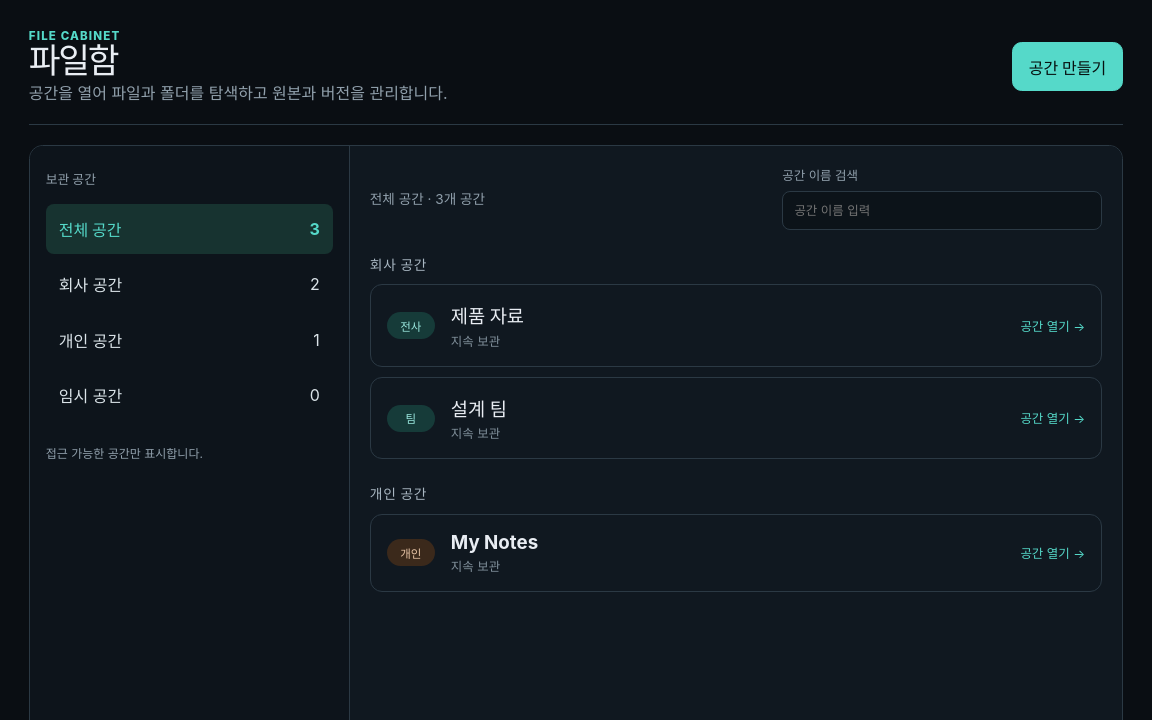
Test: filters authorized spaces by category and searches only workspace names
The width and height of the screenshot is (1152, 720).
Click the button "회사 공간 2": (90, 285) [46, 259, 333, 309]
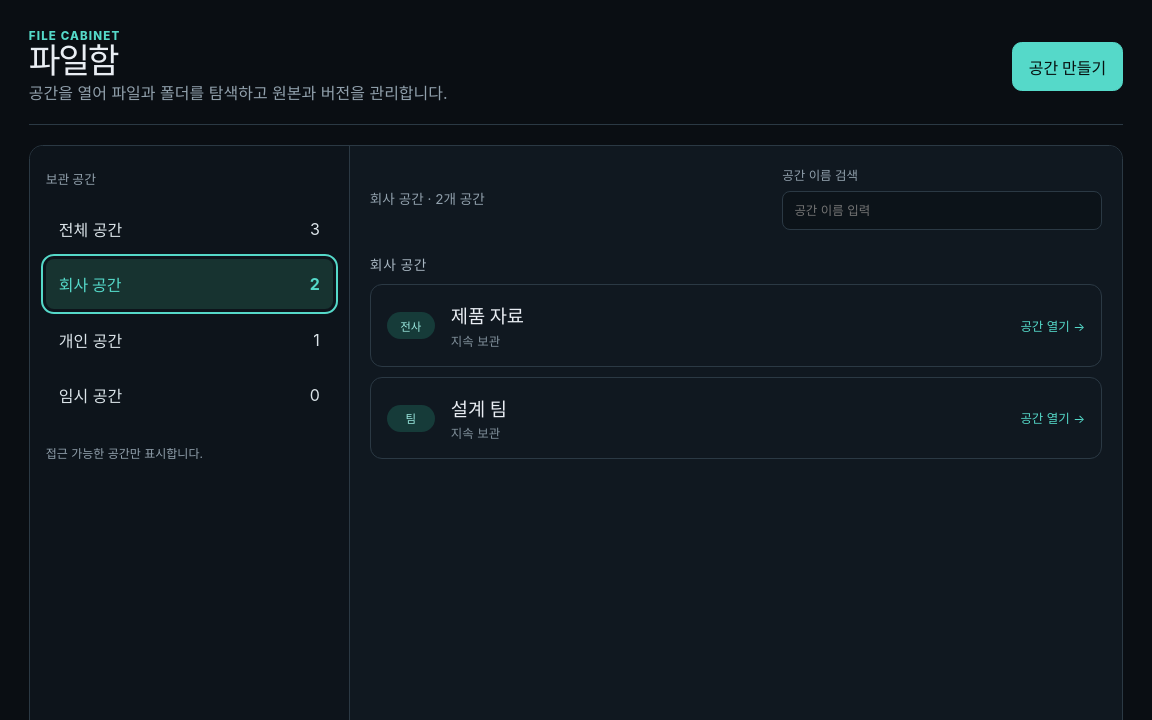
expect the link "팀 설계 팀 지속 보관 공간 열기 →" is shown: met, box [370, 377, 1102, 459]
expect the link "My Notes" is gone: met
Click the button "전체 공간 3": (90, 230) [46, 204, 333, 254]
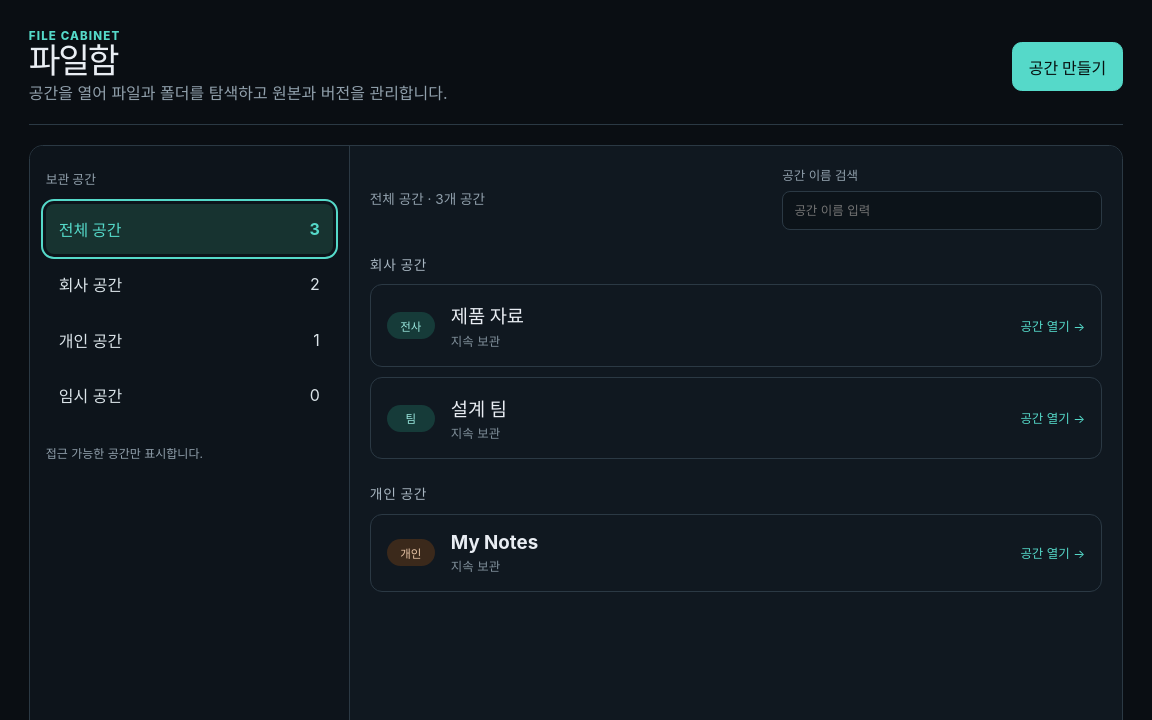
In the search field labelled "공간 이름 검색": (942, 210) [782, 191, 1102, 230], type "  my notes  "
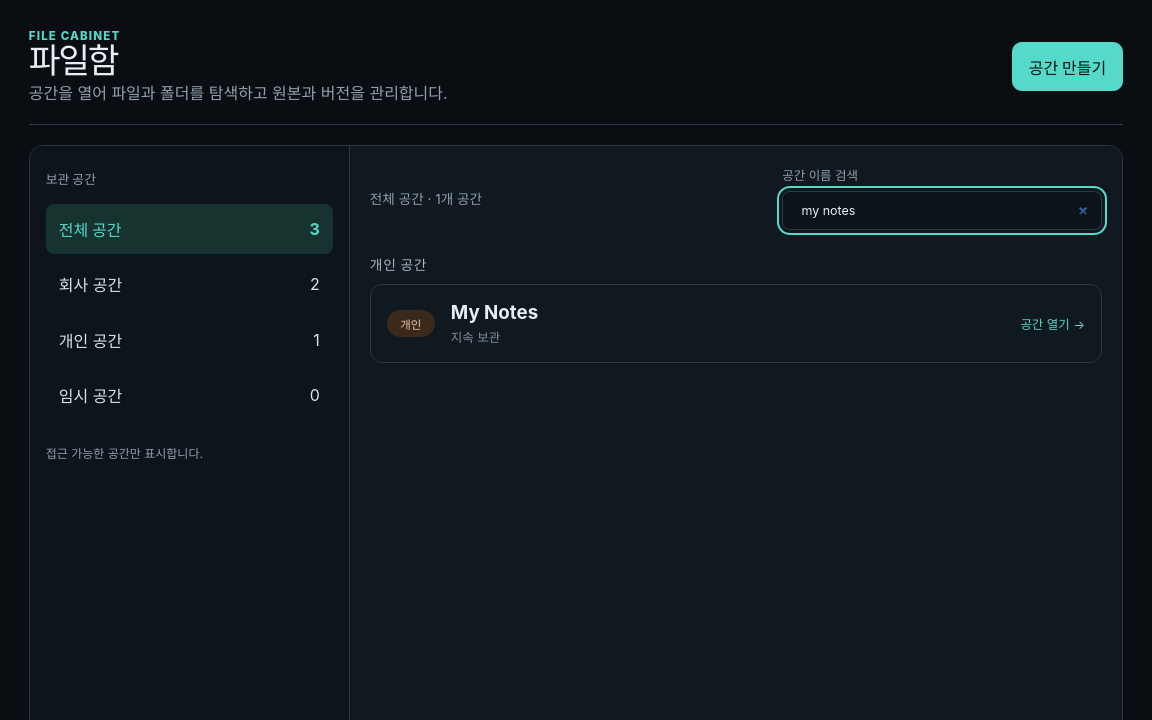
expect the link "제품 자료" is gone: met
Replace the text in the search field labelled "공간 이름 검색" with "지속 보관": (942, 210) [782, 191, 1102, 230]
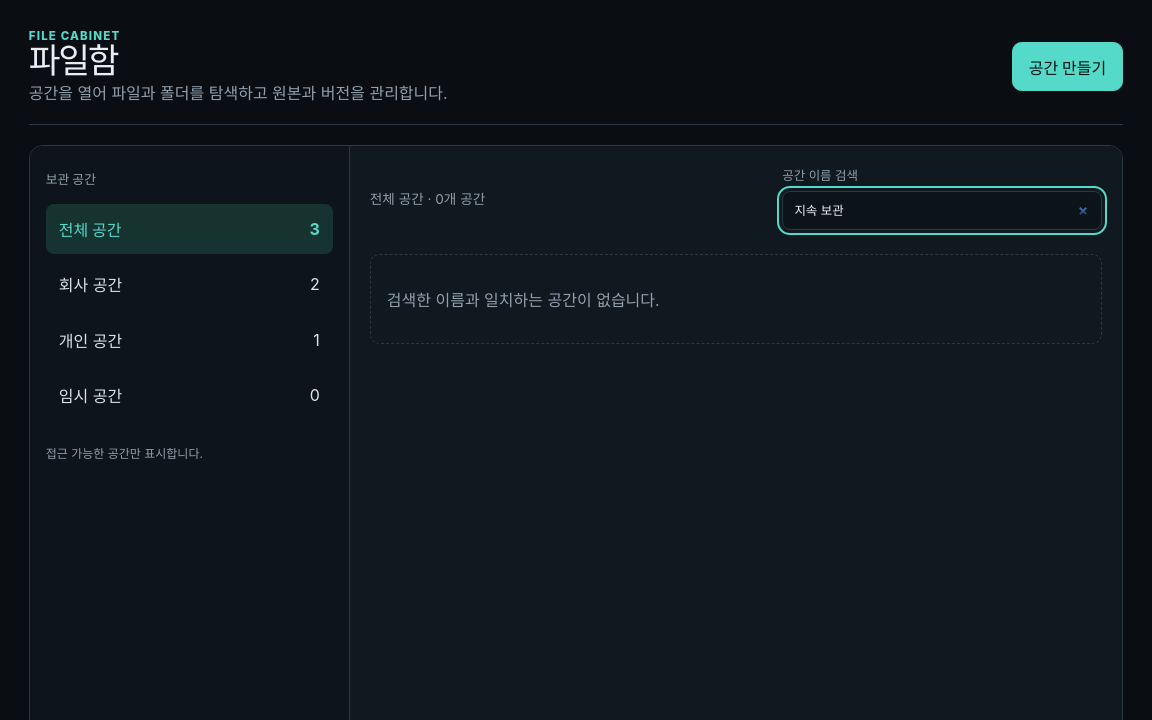
expect the link "전사 제품 자료 지속 보관 공간 열기 →" is gone: met
expect the text "검색한 이름과 일치하는 공간이 없습니다." is shown: met, box [370, 254, 1102, 344]
Clear the search field labelled "공간 이름 검색": (942, 210) [782, 191, 1102, 230]
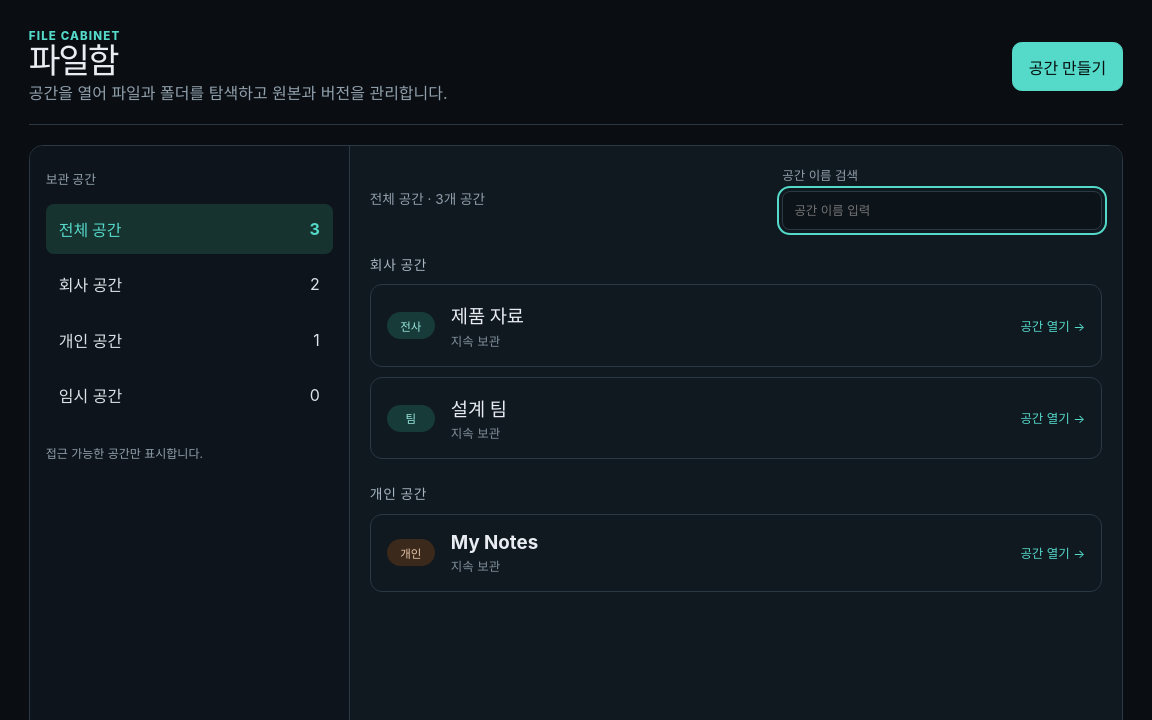
Click the button "임시 공간 0": (90, 396) [46, 370, 333, 420]
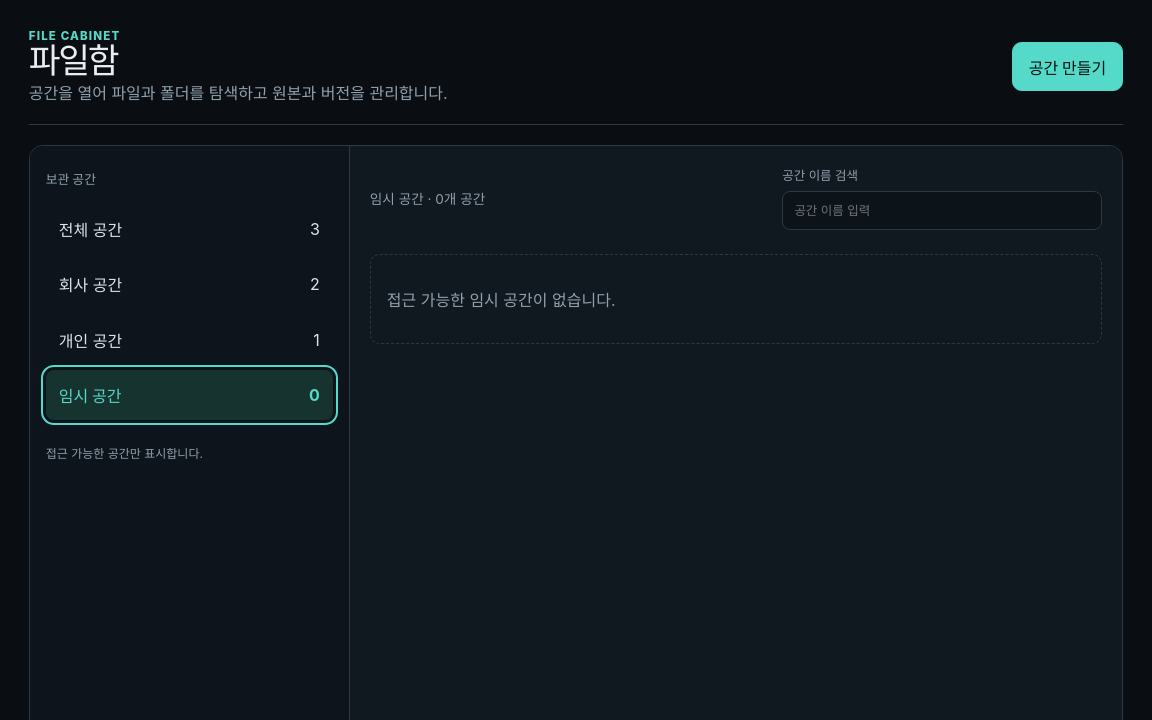
expect the text "접근 가능한 임시 공간이 없습니다." is shown: met, box [370, 254, 1102, 344]
